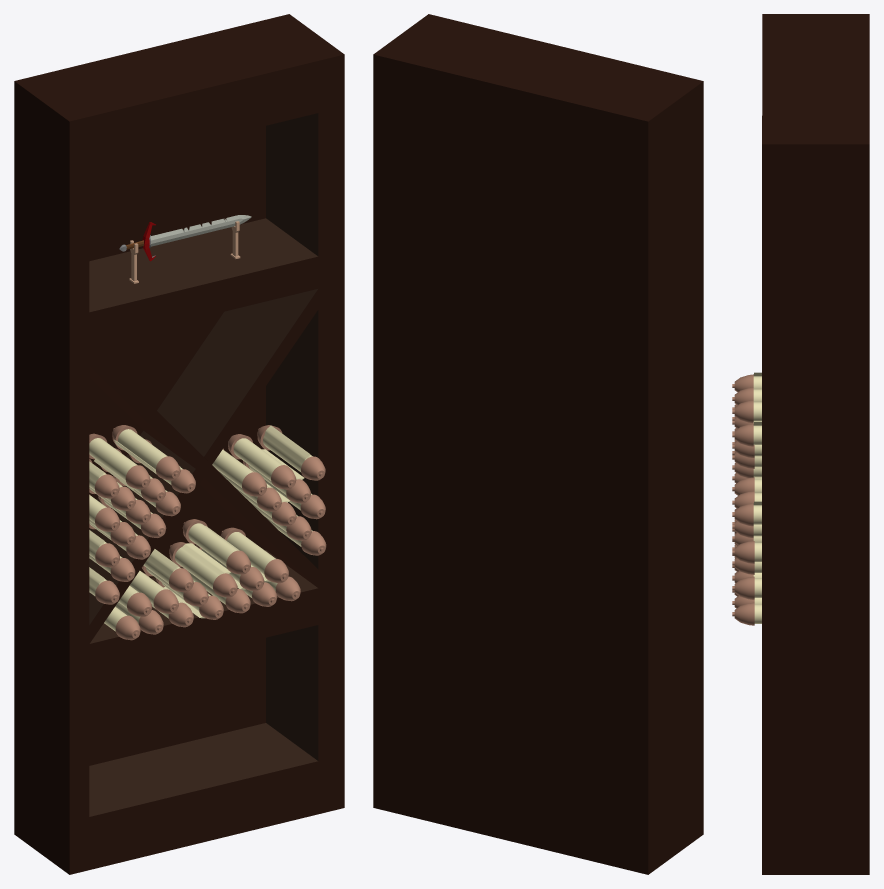
The model's file is Scaffale 3 + Ogg .fbx.
3 renders of one model, left to right at view 1: azimuth 30°, elevation 25°; view 2: azimuth 150°, elevation 25°; view 3: azimuth 270°, elevation 25°, orthographic. The views are drawn at different scales.
Parts seen in each view (by area): view 1: Library 1.002, Cylinder.157, Cylinder.273, Cylinder.161, Cylinder.323, Cylinder.271, Cylinder.325, Cylinder.077, Sword 1.009, Cylinder.324, Cylinder.160, Cylinder.155 (+10 smaller); view 2: Library 1.002; view 3: Library 1.002, Cylinder.323, Cylinder.272, Cylinder.074, Cylinder.317, Cylinder.319, Cylinder.273, Cylinder.270, Cylinder.324, Cylinder.271, Cylinder.321, Cylinder.267 (+4 smaller).
Boxes of the visible parts, x1,y1,x2,y2 form: Library 1.002: (14,14,344,874); Cylinder.157: (169,542,237,597); Cylinder.273: (112,425,180,480); Cylinder.161: (182,519,250,574); Cylinder.323: (257,425,325,480); Cylinder.271: (89,433,150,489); Cylinder.325: (228,434,296,489); Cylinder.077: (220,527,288,583); Sword 1.009: (119,215,251,261); Cylinder.324: (212,448,266,496); Cylinder.160: (143,549,193,592); Cylinder.155: (129,570,178,613); Library 1.002: (373,14,703,874); Library 1.002: (762,14,869,874); Cylinder.323: (732,501,761,526); Cylinder.272: (732,422,761,446); Cylinder.074: (732,602,761,625); Cylinder.317: (732,576,761,599); Cylinder.319: (732,541,761,563); Cylinder.273: (732,400,761,423); Cylinder.270: (732,372,761,392); Cylinder.324: (732,477,761,495); Cylinder.271: (732,387,761,405); Cylinder.321: (732,521,761,538); Cylinder.267: (732,441,761,458).
Bounding box in the file's own units: 200 × 523 × 89.17.
